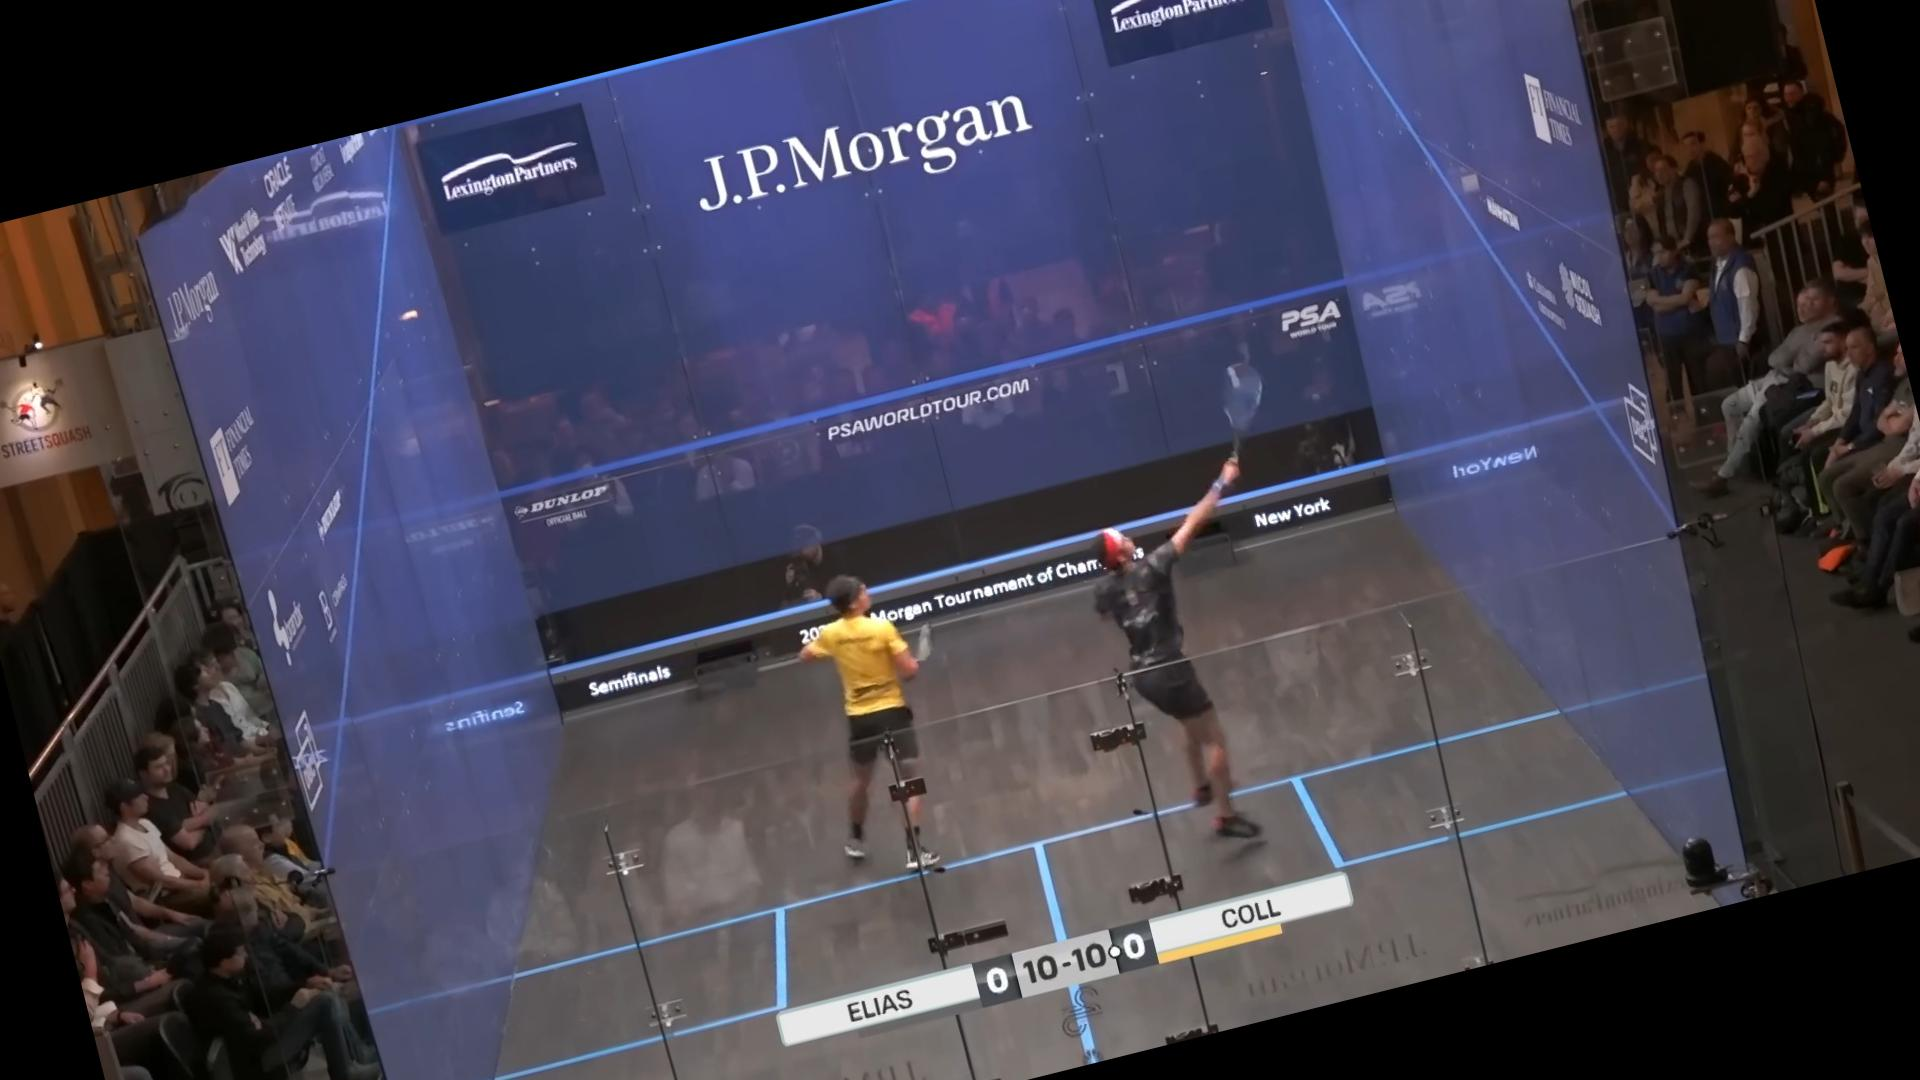Racket: (1193, 344, 1295, 479)
